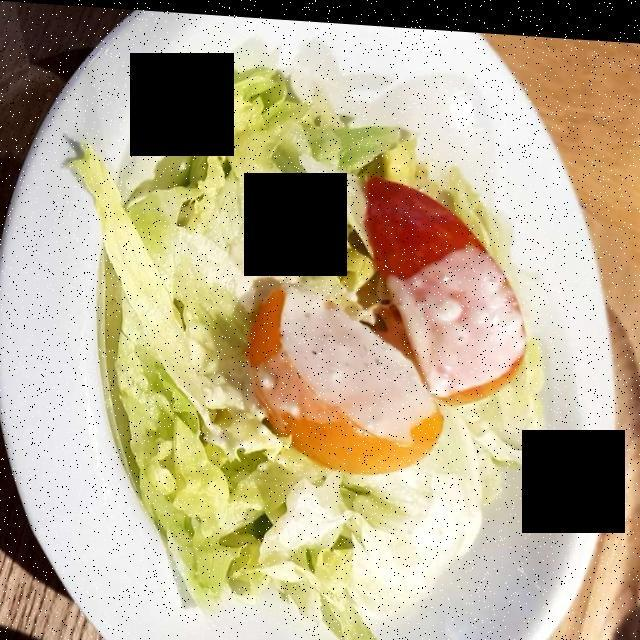salad: (78, 74, 547, 640), (213, 222, 526, 442)
tomato: (251, 167, 523, 479)
